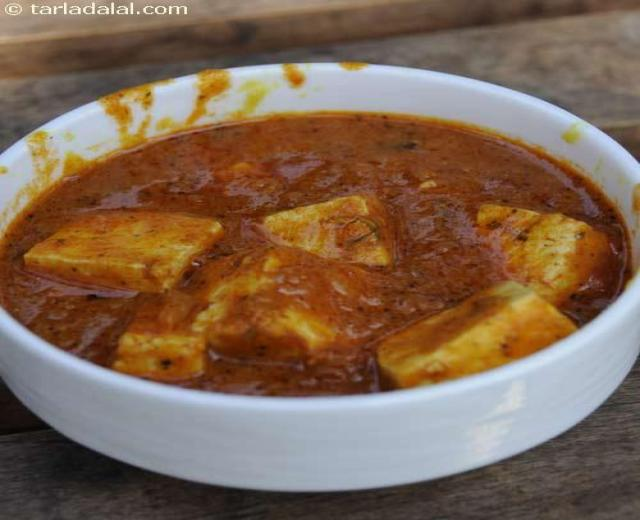kadai paneer: (2, 61, 632, 492), (3, 0, 636, 161), (33, 113, 581, 248), (1, 173, 155, 333), (0, 429, 229, 516), (0, 0, 291, 68), (208, 0, 501, 44), (481, 0, 639, 26), (0, 383, 54, 440), (182, 70, 234, 127), (4, 1, 188, 16), (97, 85, 147, 139)
